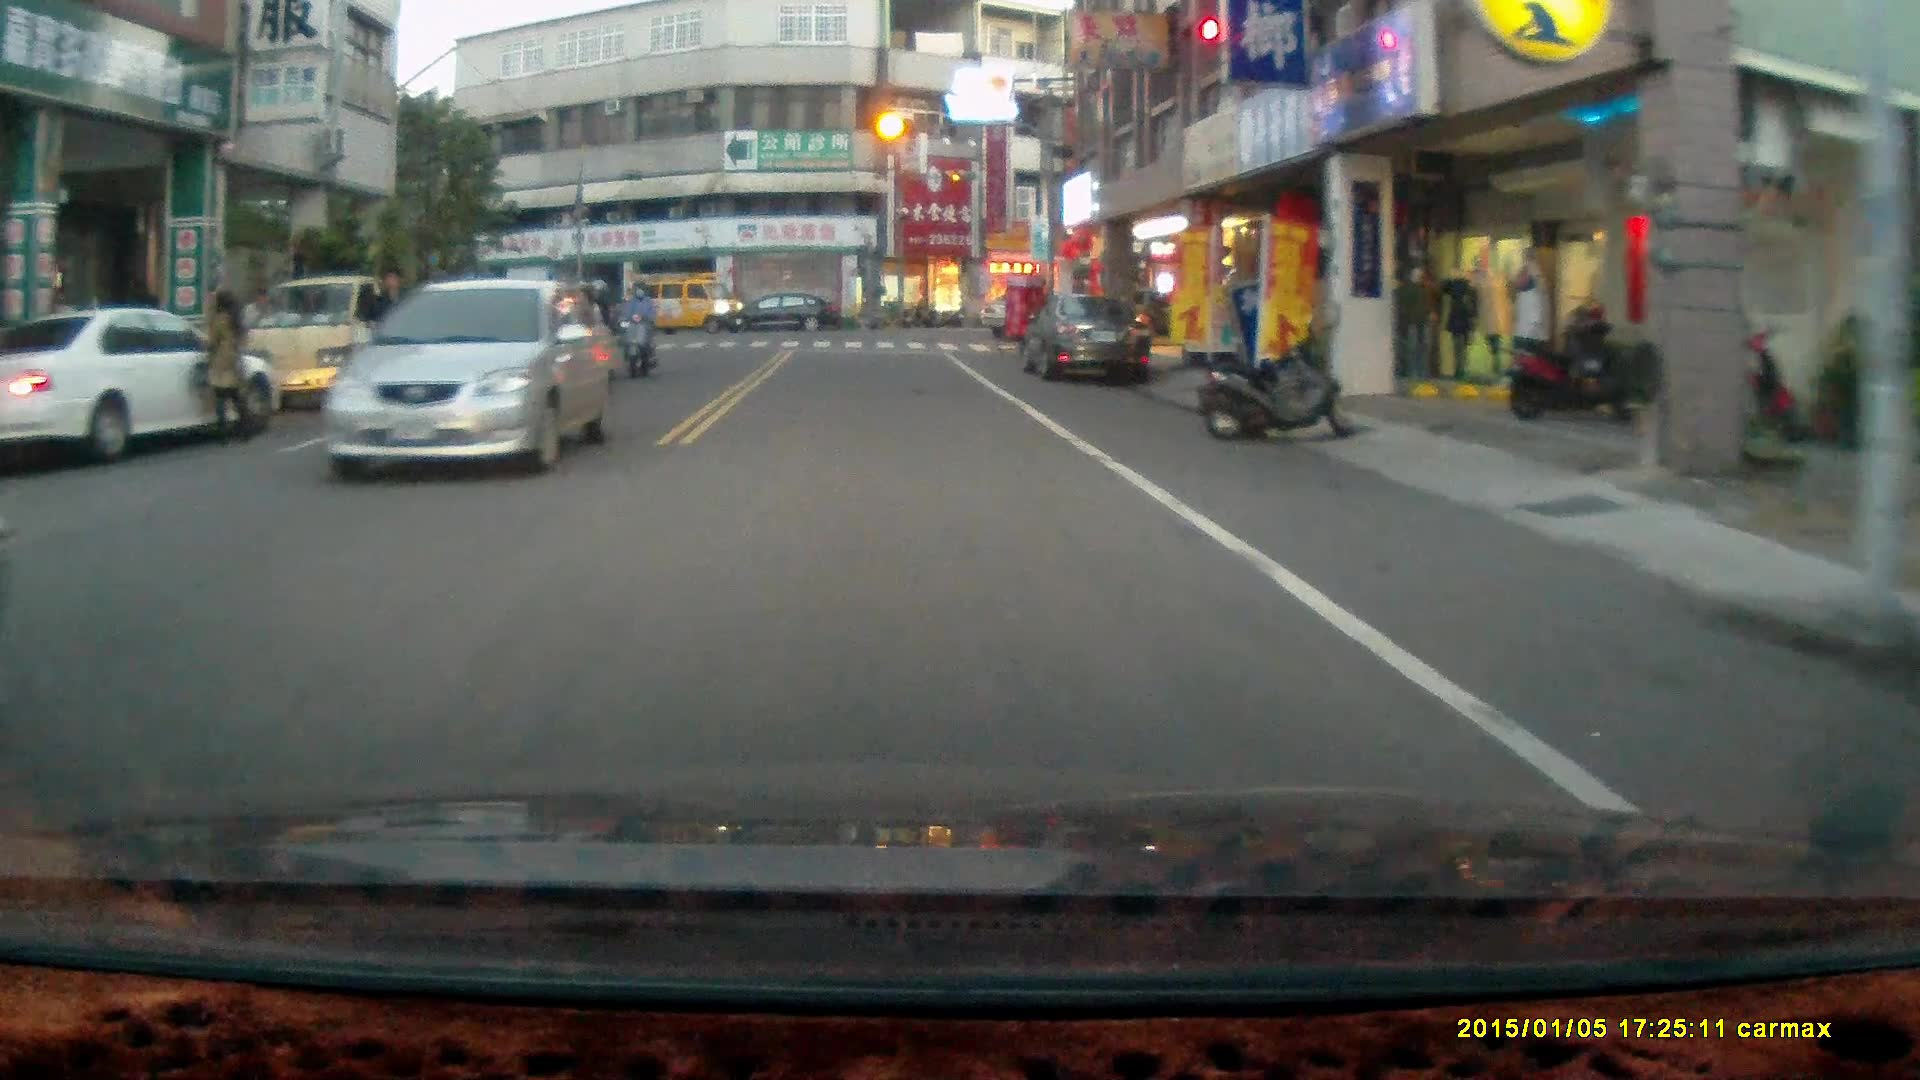pedestrian: (191, 287, 253, 449), (358, 261, 418, 411)
rider: (619, 278, 659, 380)
vehicle: (323, 277, 623, 484), (1, 303, 282, 471), (1018, 287, 1159, 386), (626, 273, 748, 336), (725, 291, 843, 336)
